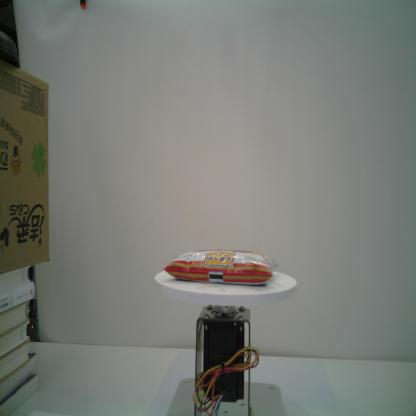Seasoner: (162, 243, 279, 289)
